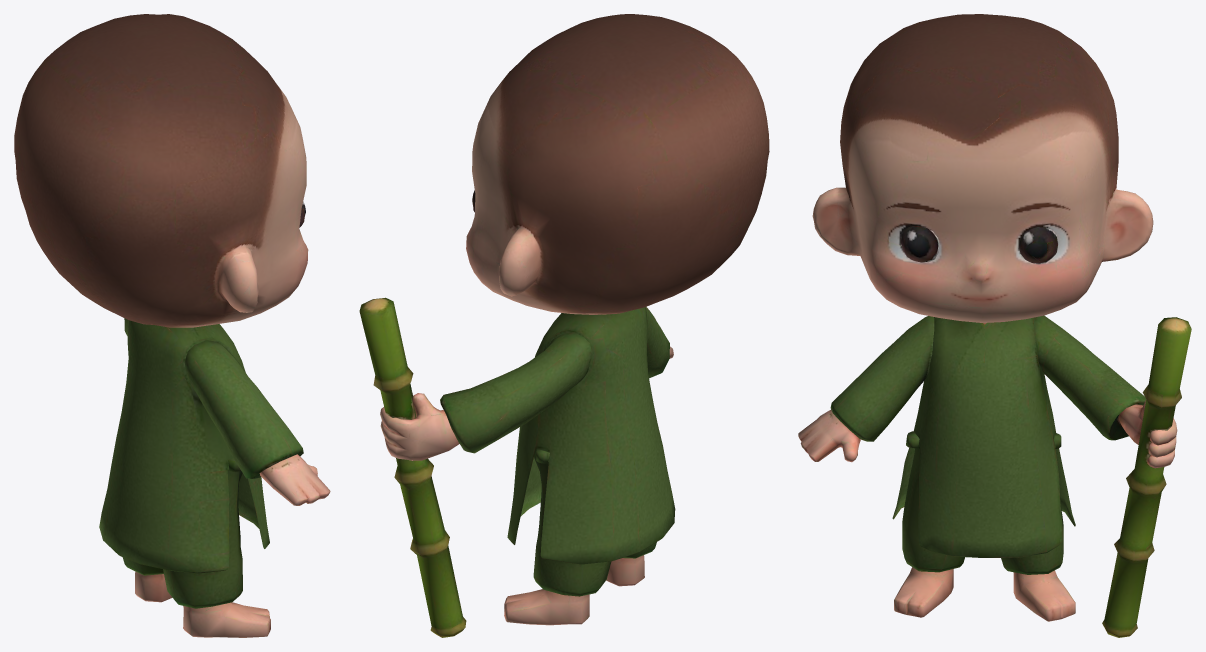
The model's file is baby.glb.
3 renders of one model, left to right at view 1: azimuth 30°, elevation 25°; view 2: azimuth 150°, elevation 25°; view 3: azimuth 270°, elevation 25°, orthographic. The views are drawn at different scales.
Parts seen in each view (by area): view 1: tripo_node_60175508-adc7-471c-884a-f873bc4979d2; view 2: tripo_node_60175508-adc7-471c-884a-f873bc4979d2; view 3: tripo_node_60175508-adc7-471c-884a-f873bc4979d2.
Boxes of the visible parts, x1,y1,x2,y2 form: tripo_node_60175508-adc7-471c-884a-f873bc4979d2: [14, 14, 330, 637]; tripo_node_60175508-adc7-471c-884a-f873bc4979d2: [359, 14, 769, 637]; tripo_node_60175508-adc7-471c-884a-f873bc4979d2: [798, 14, 1191, 637].
Size of the model in its own units: 0.5098 by 0.998 by 0.6426.
Materials: 1 (1 with a texture image).
